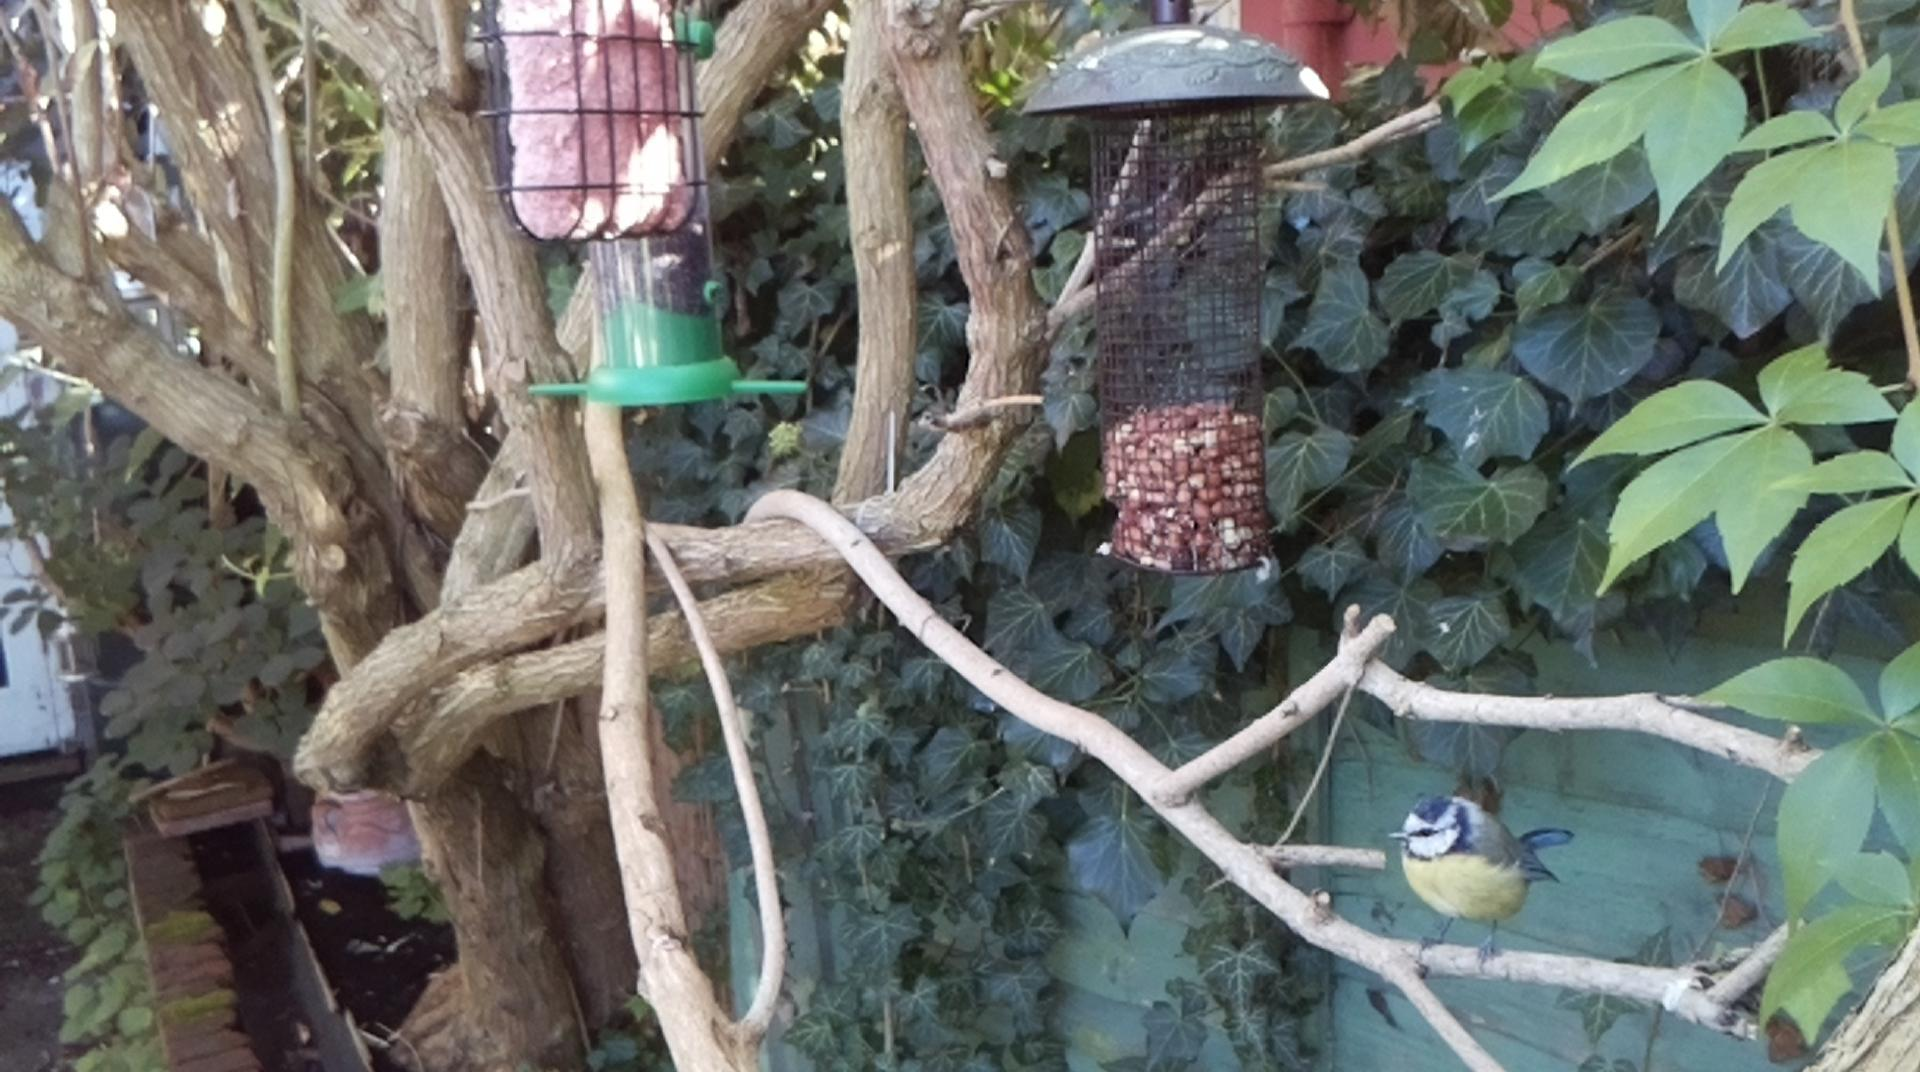blue tit: (1389, 794, 1576, 974)
